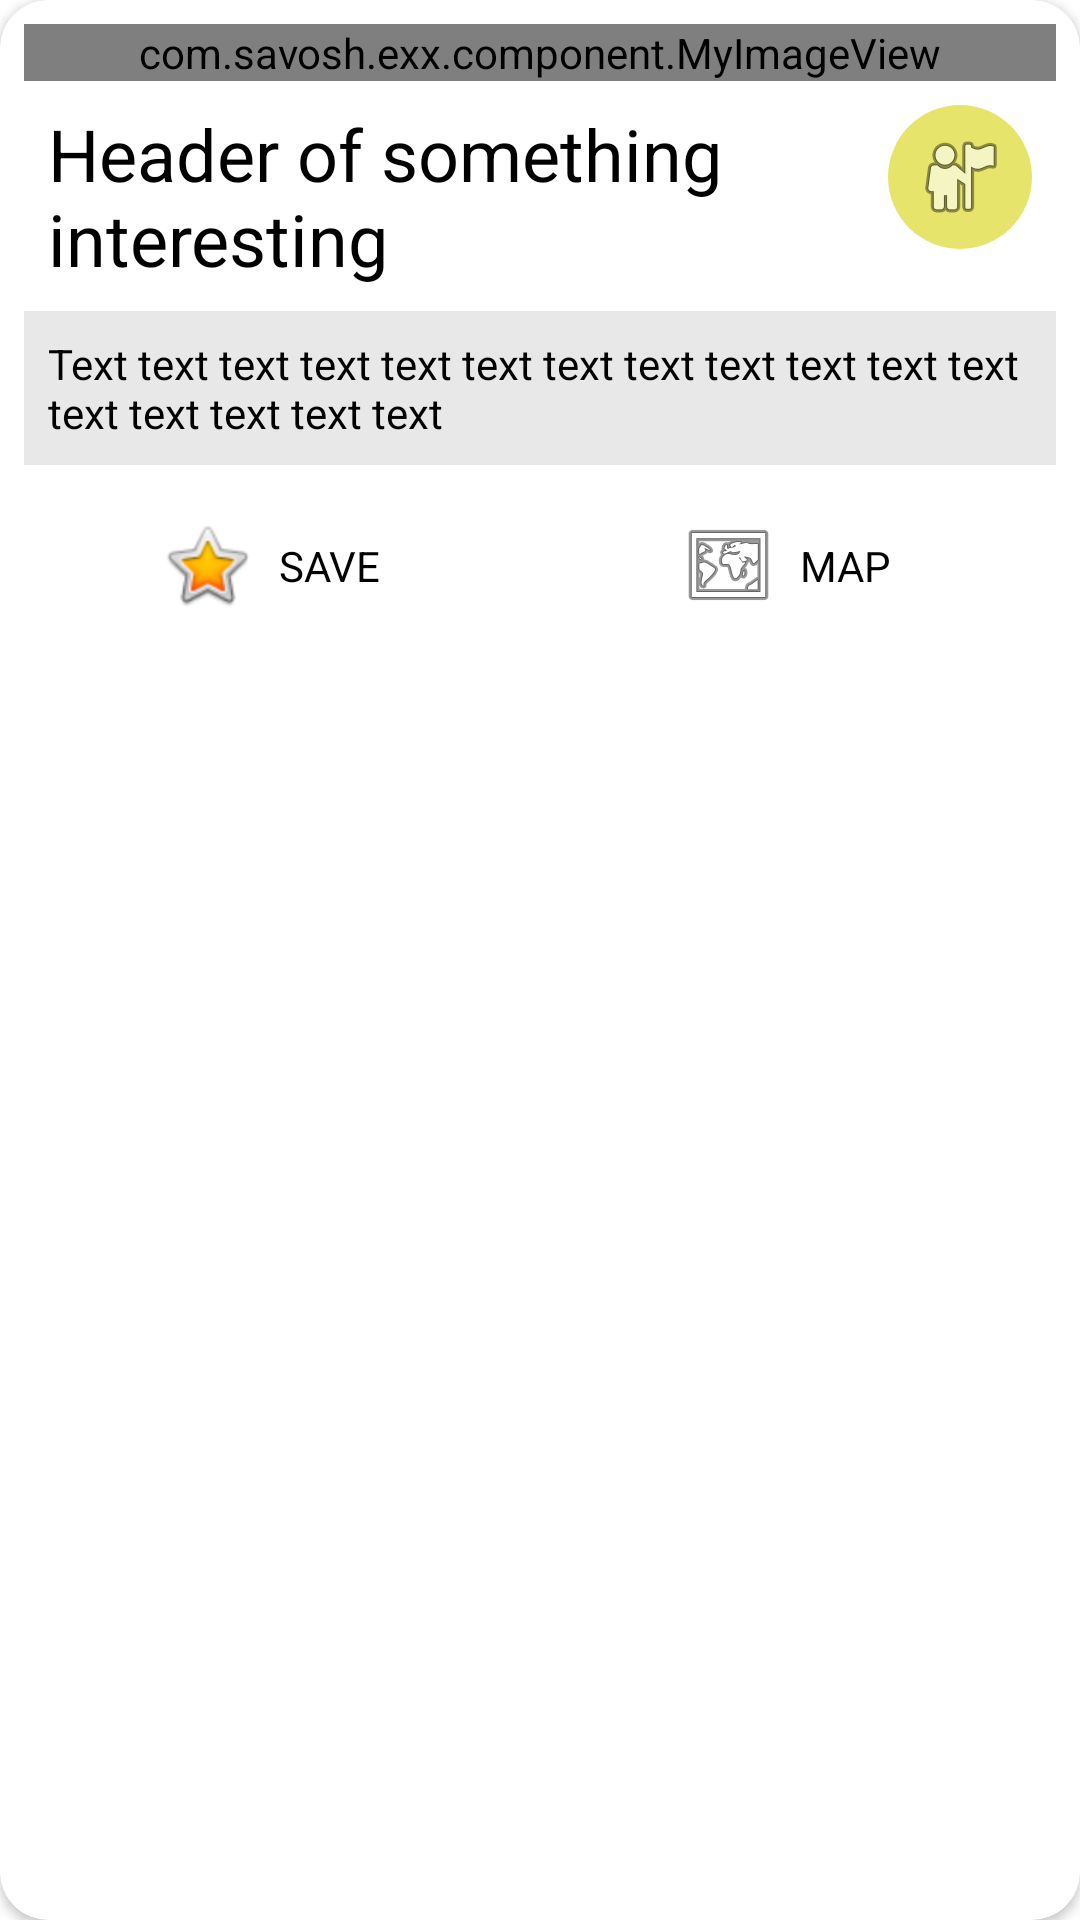

Icon click points for this 1080×1920 phone screenshot, format [x,y]:
mapmode: [728,565]
place: [960,177]
star on: [208,566]
